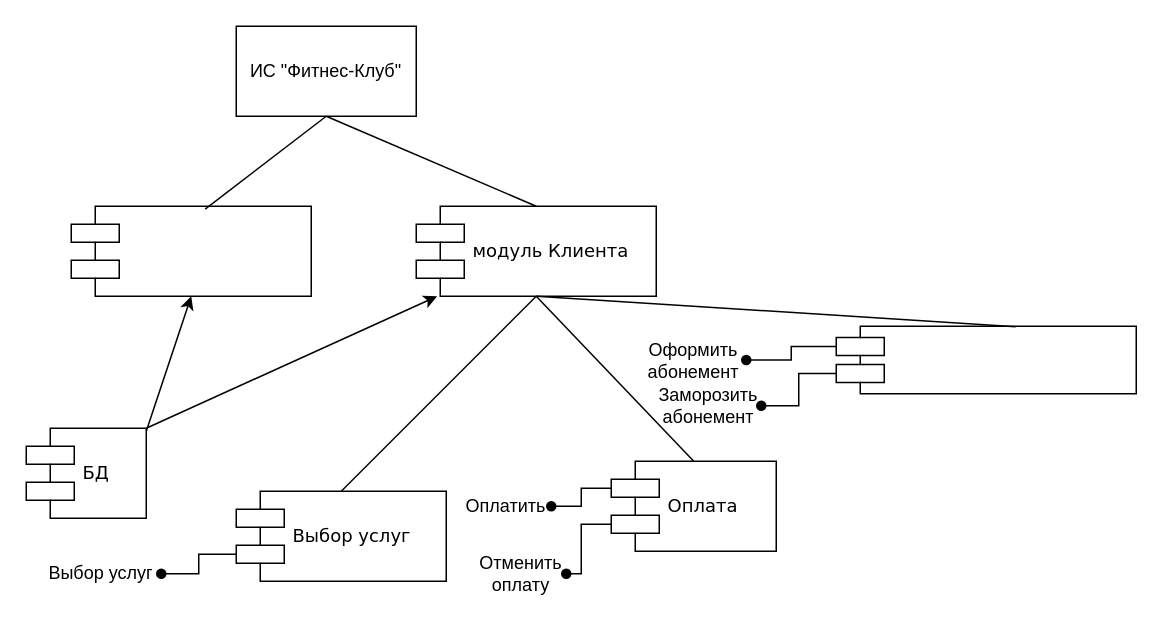
Image size: 1163x623. Some labels were removed from this diagram. Each missing label, with the centre of its shape:
модуль Персонала: pixel 190 250
Оформление абонемента: pixel 985 359
